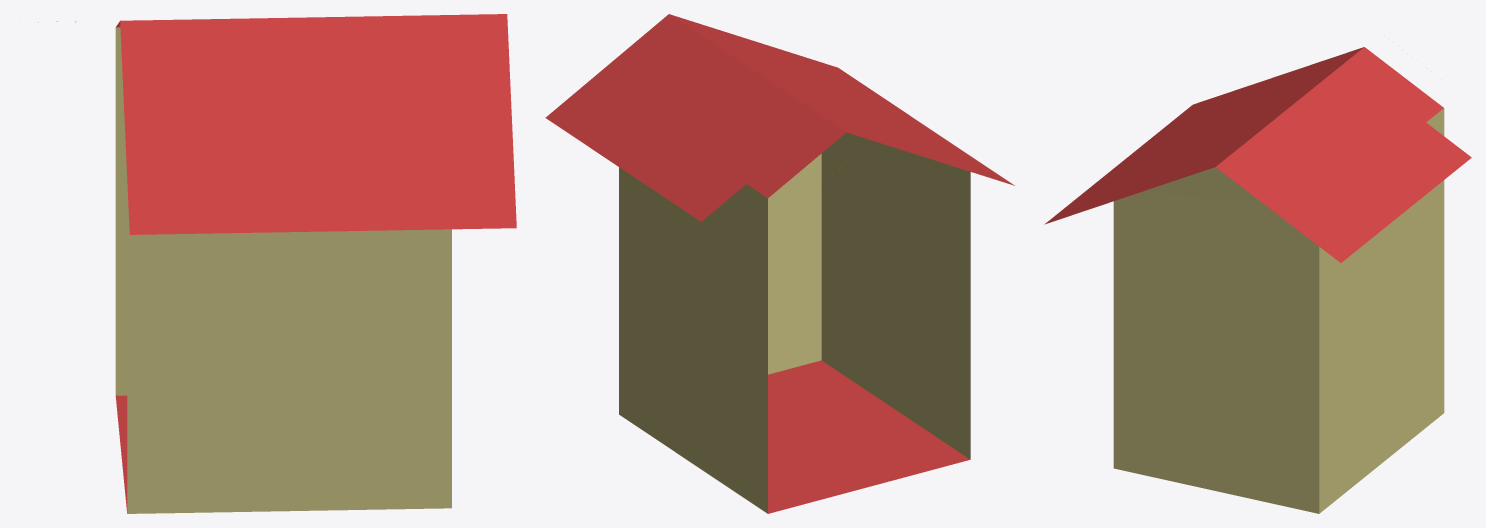
3 views of the same model, side by side, from view 1: azimuth 30°, elevation 25°; view 2: azimuth 150°, elevation 25°; view 3: azimuth 270°, elevation 25° (orthographic). The views are drawn at different scales.
Size of the model in its own units: 17.02 by 16.56 by 14.89.
